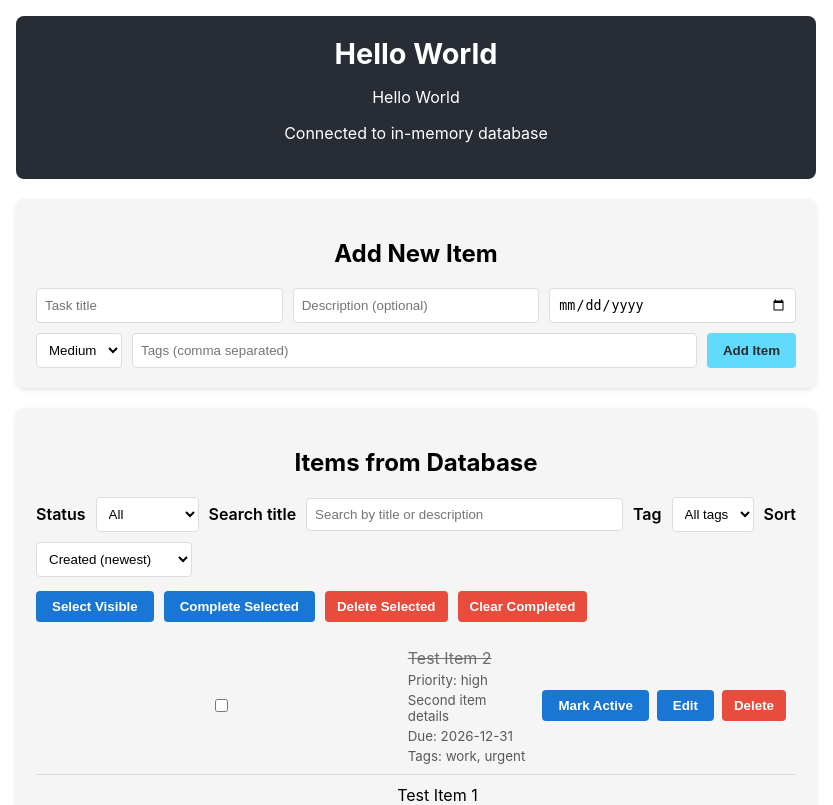
Test case: App Component › adds a new item
# Fill in the form and submit
Type "New Test Item" into the field with placeholder "Task title" at (159,305), box [36,288,283,323]
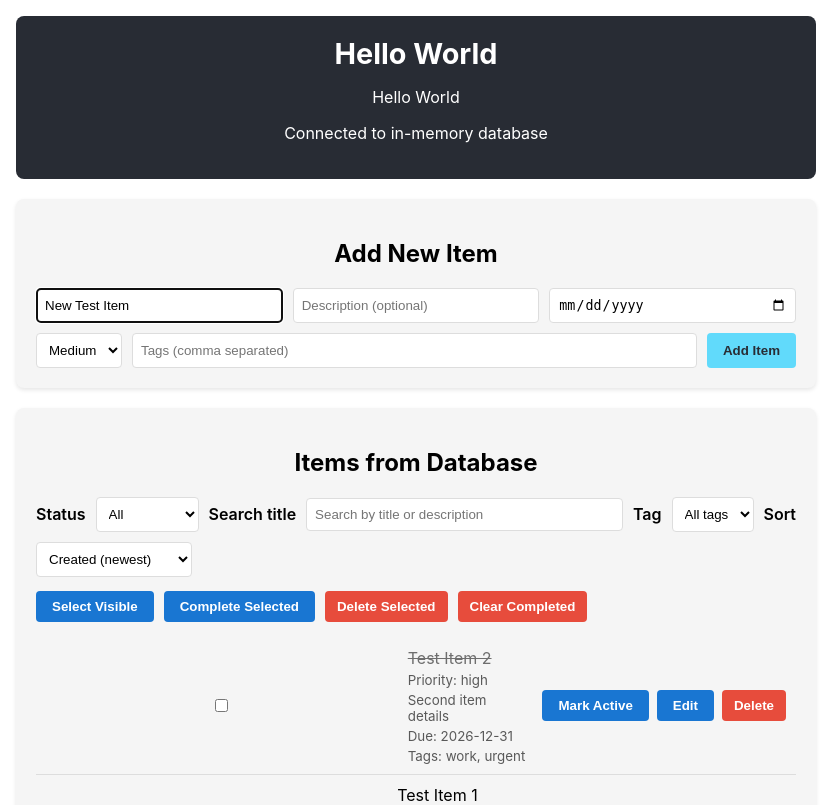
Type "feature, sprint" into the field with placeholder "Tags (comma separated)" at (414,351), box [132,333,697,368]
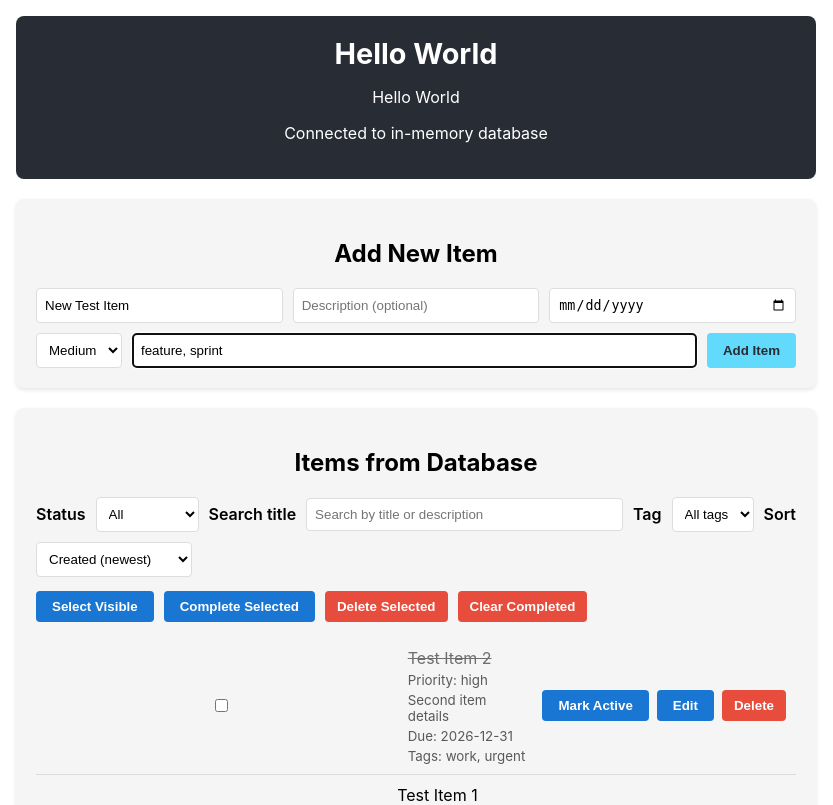
Click the button "Add Item" at (752,351), box [707,333,796,368]
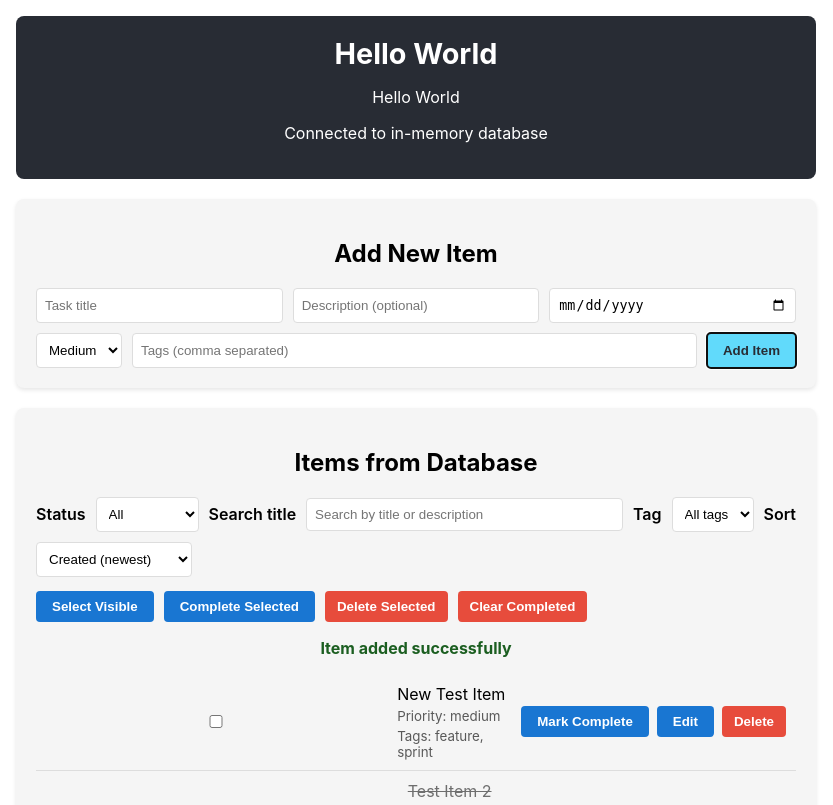
Now the text "New Test Item" is shown, box [397,684,509,704]
Now the text "Tags: feature, sprint" is shown, box [397,728,484,760]
Now the text "Item added successfully" is shown, box [320,638,512,658]
